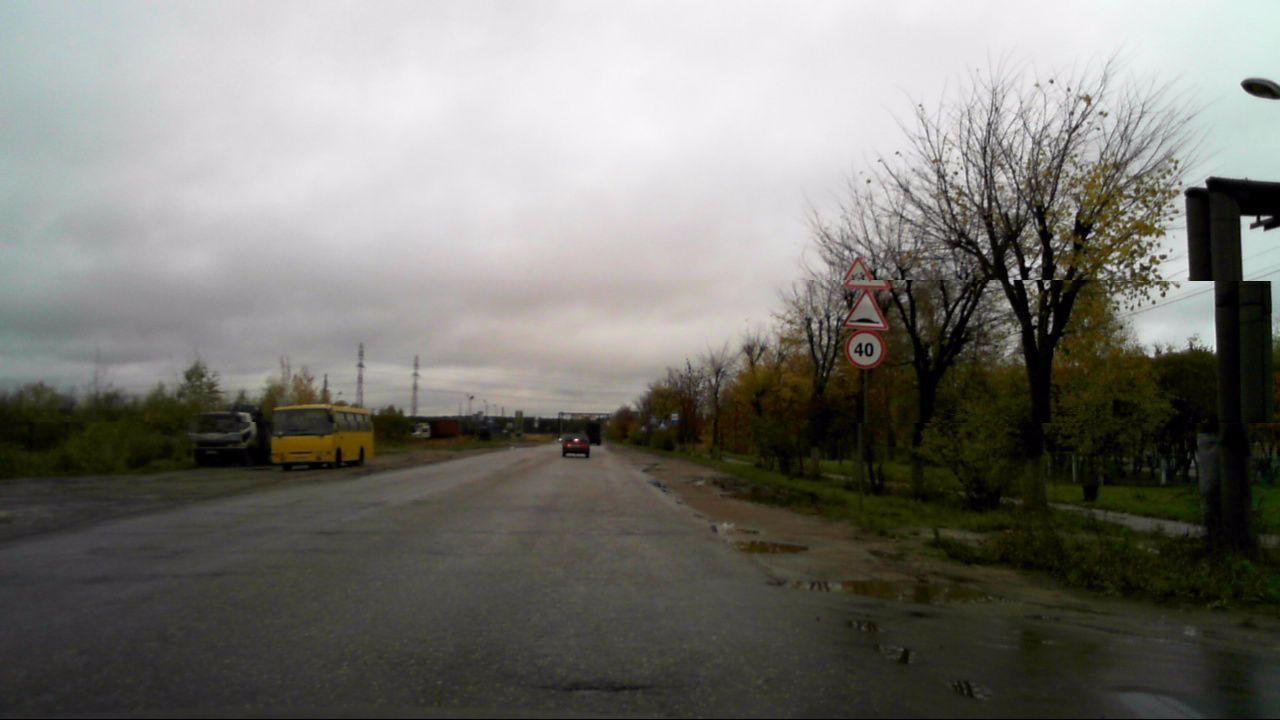speed_warning_40: (845, 329, 885, 369)
